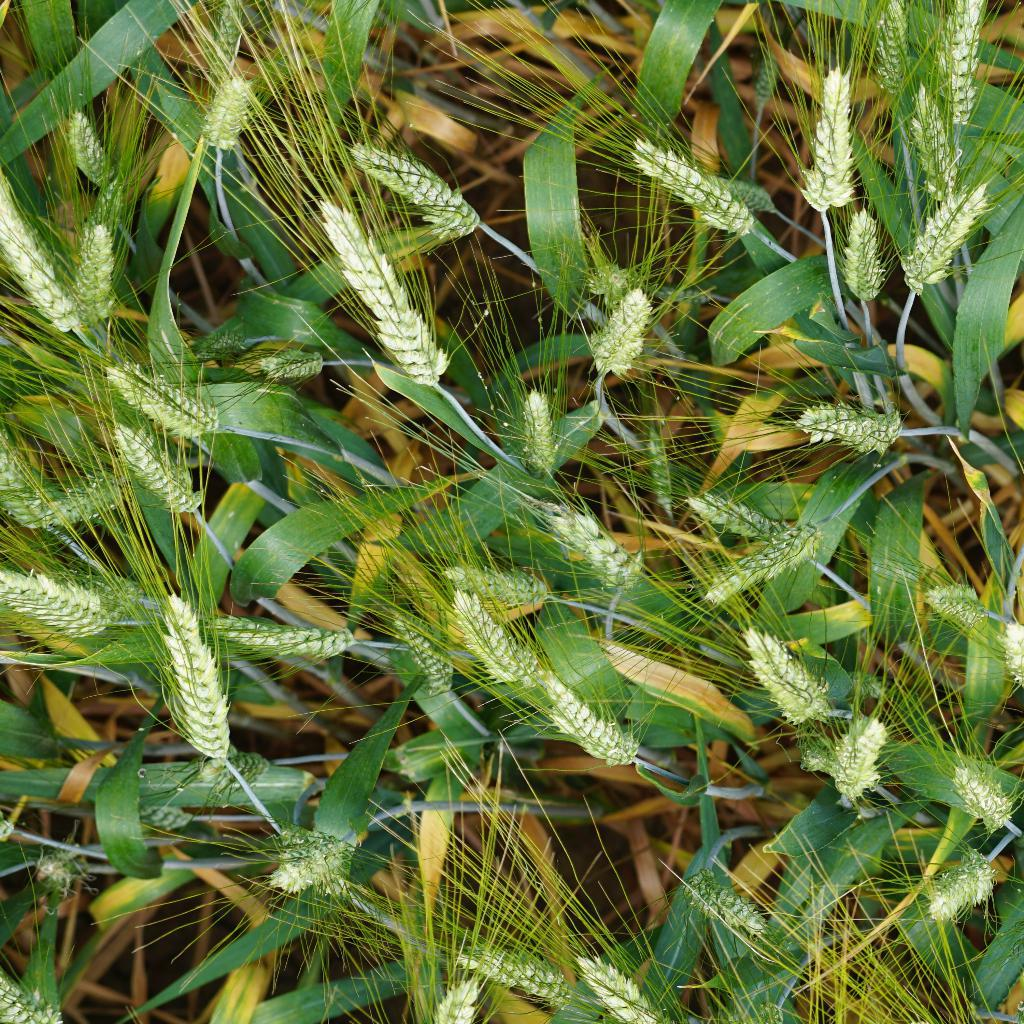0-0: (288, 183, 470, 393), (607, 124, 774, 243), (679, 490, 836, 609), (144, 582, 239, 762), (781, 47, 877, 217), (348, 134, 494, 236), (519, 668, 656, 776), (190, 594, 364, 675), (888, 183, 1012, 295), (0, 186, 86, 337), (530, 489, 658, 589), (97, 417, 213, 527), (78, 358, 230, 437), (729, 621, 838, 728), (567, 950, 720, 1024), (444, 937, 576, 1011), (665, 860, 780, 938), (788, 391, 907, 464), (0, 572, 124, 642), (443, 593, 529, 690), (830, 195, 901, 307), (584, 272, 661, 374), (384, 595, 458, 701), (273, 821, 363, 905), (436, 550, 564, 609), (919, 844, 1001, 936), (58, 208, 120, 325), (933, 0, 990, 127), (187, 63, 252, 165), (938, 763, 1024, 840), (0, 447, 67, 545), (826, 710, 894, 804), (192, 0, 251, 106), (864, 0, 925, 101), (907, 82, 965, 182), (915, 570, 1002, 636), (514, 380, 572, 478), (53, 105, 126, 182), (680, 481, 776, 535), (411, 965, 493, 1024), (40, 467, 124, 520), (698, 167, 781, 219), (639, 419, 679, 521), (213, 747, 291, 799), (238, 337, 324, 378), (4, 976, 77, 1023), (119, 800, 199, 837), (206, 747, 277, 787), (991, 610, 1024, 692), (30, 848, 85, 897), (188, 326, 251, 364), (578, 255, 630, 297), (752, 48, 783, 110)
